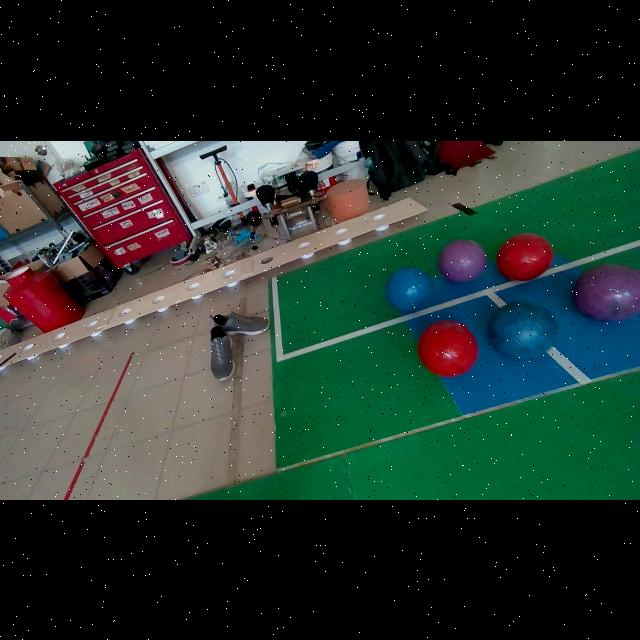B: (488, 301, 558, 358), (386, 266, 432, 312)
P: (572, 263, 640, 320), (440, 239, 486, 282)
R: (418, 320, 478, 376), (497, 232, 554, 279)
